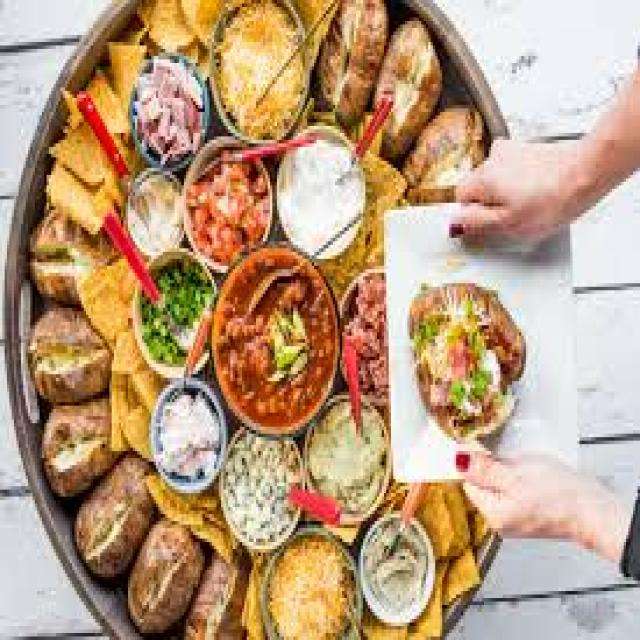Baked Potato: (406, 248, 558, 461)
